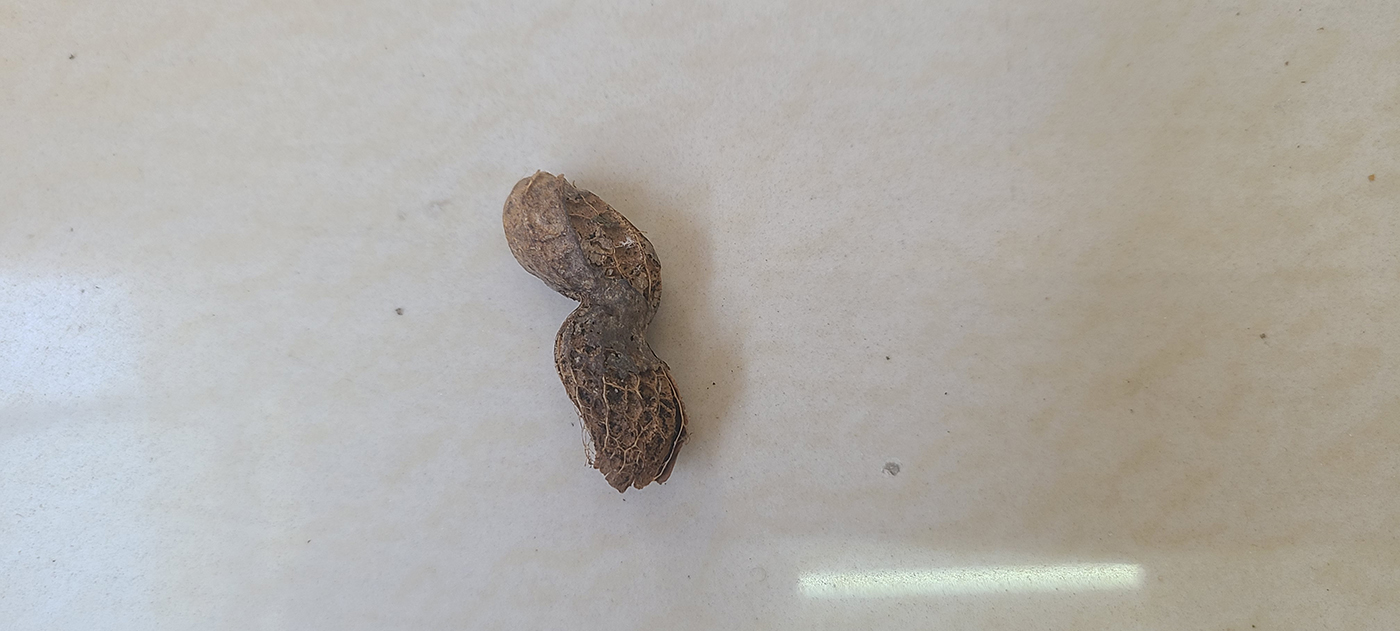l: (502, 173, 689, 491)
